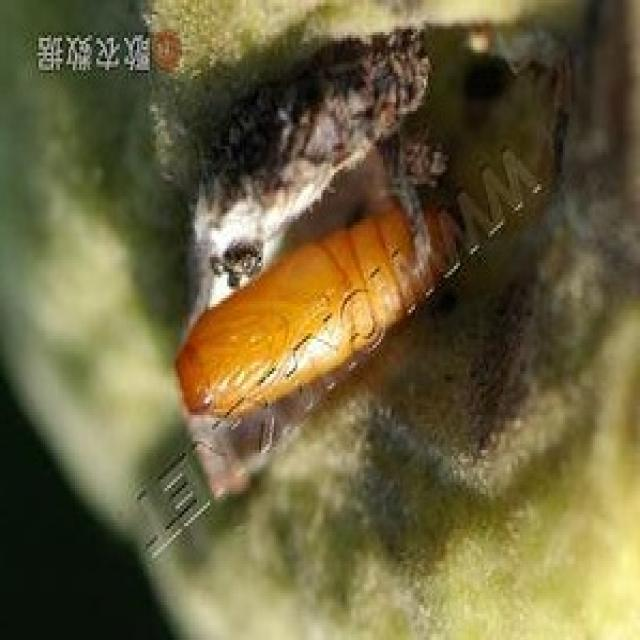peach borer: (173, 120, 531, 427)
